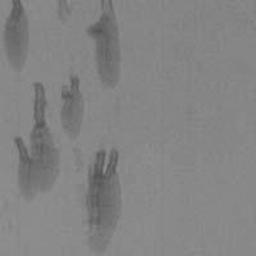Oil spot: (13, 65, 87, 205), (70, 136, 125, 256), (84, 0, 123, 93), (1, 0, 31, 76), (56, 0, 76, 27)
